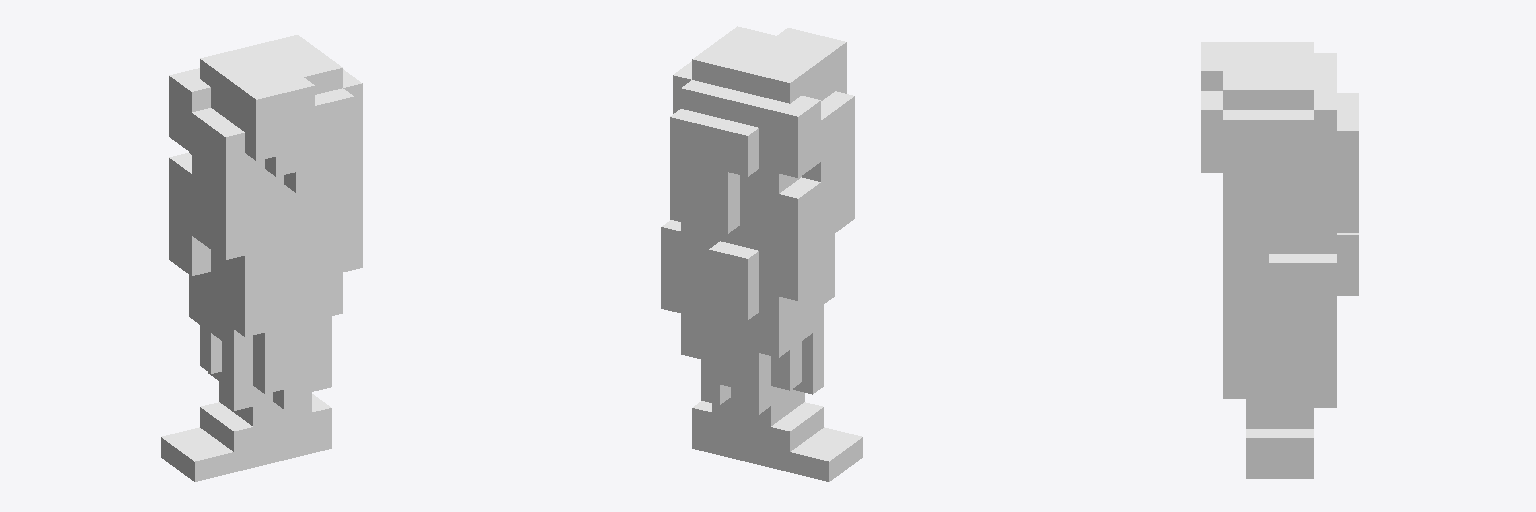
The model's file is rambo_monkey_right_leg.obj.
3 views of the same model, side by side, from view 1: azimuth 30°, elevation 25°; view 2: azimuth 150°, elevation 25°; view 3: azimuth 270°, elevation 25° (orthographic).
Bounding box in the file's own units: 8 × 19 × 7.